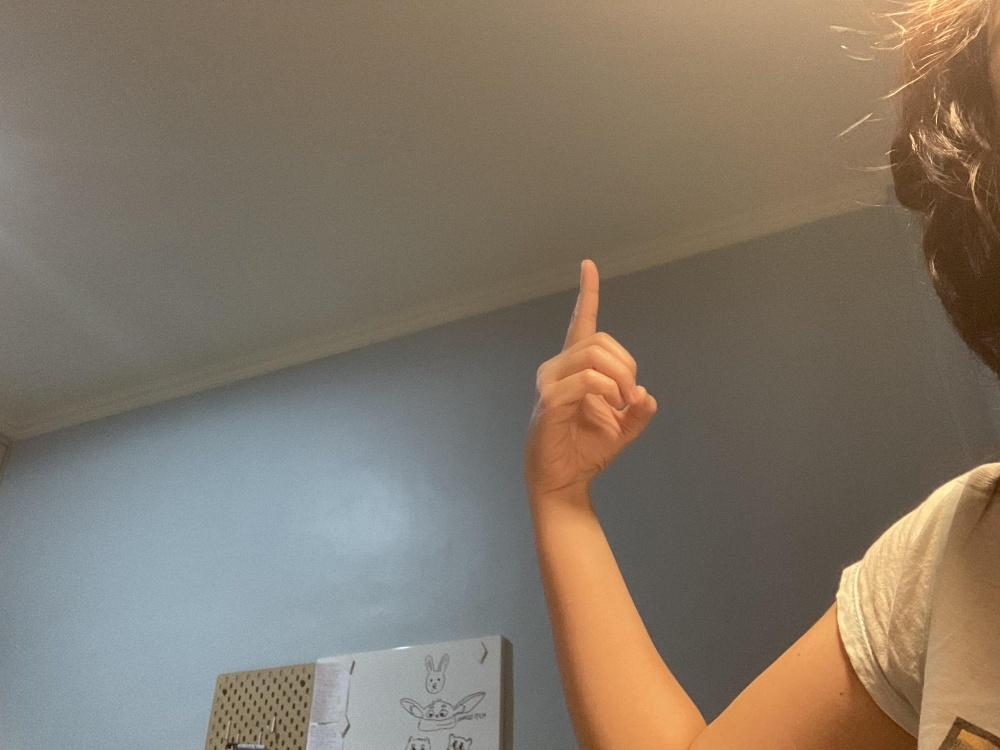d: (523, 257, 656, 490)
